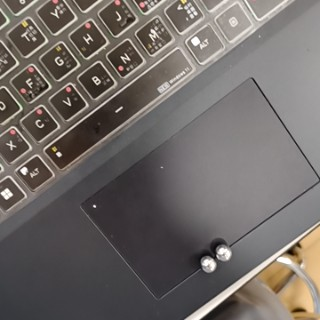ironball: (197, 251, 220, 278), (212, 242, 233, 267)
